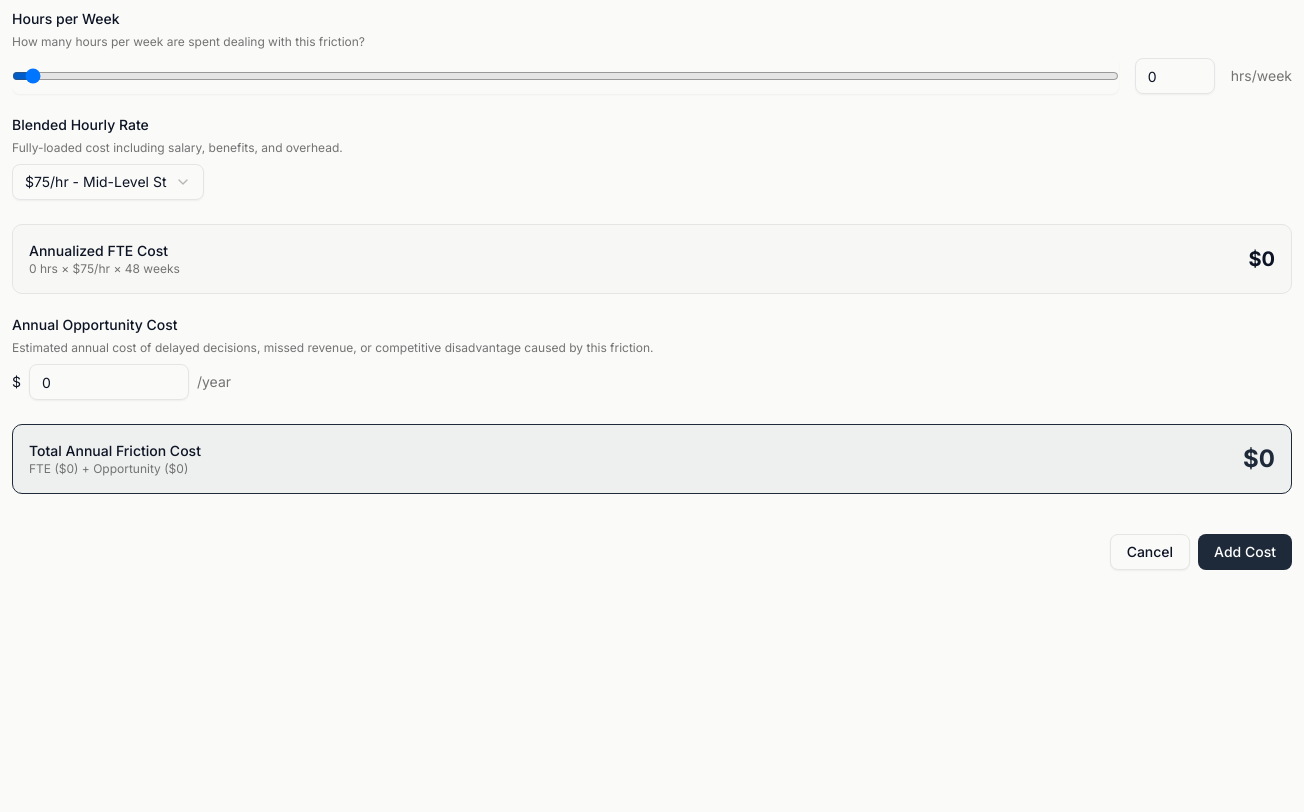
CostForm › calculates FTE cost live
The image size is (1304, 812).
# Get the numeric input (not the range slider)
Replace the text in the 1st number field with "10". click: point(1175, 76)
box: [1135,58,1215,94]
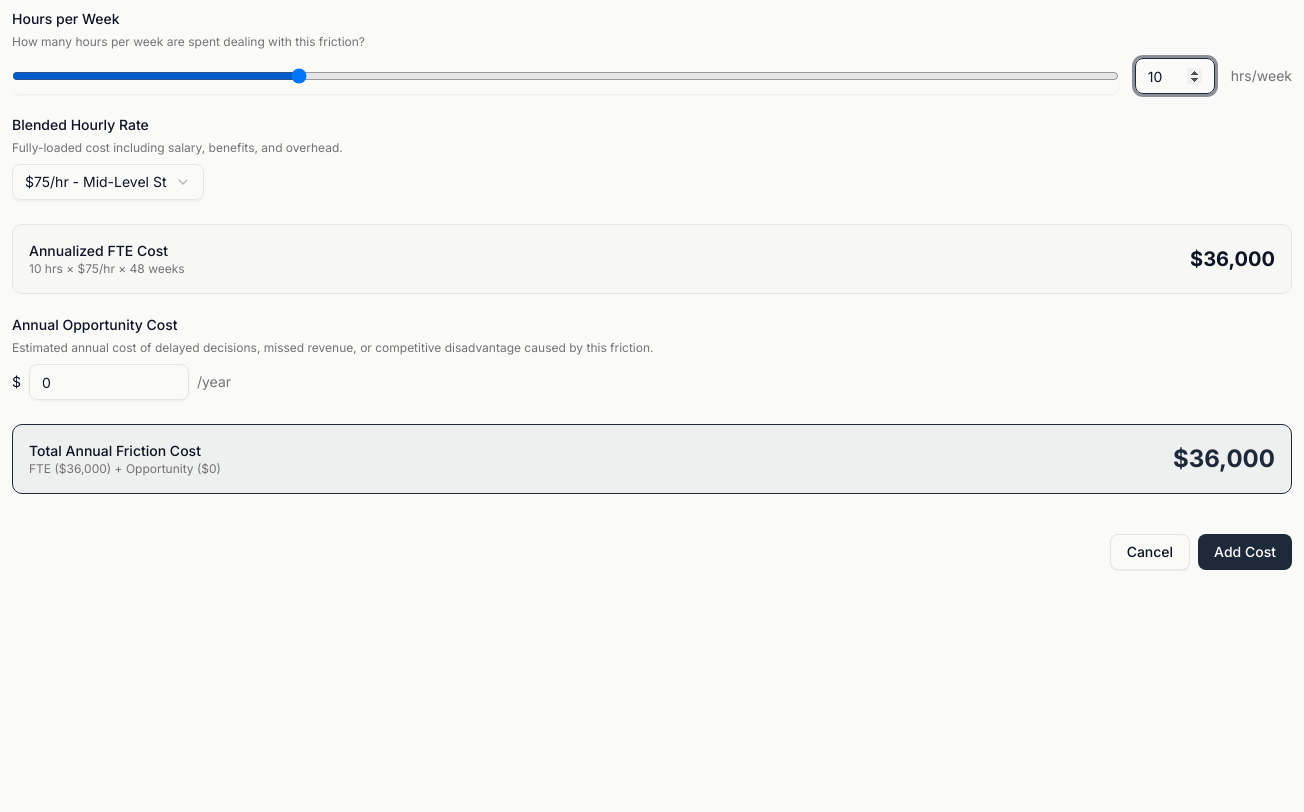
Expected: the text "$36,000" in the row of "weeks" is shown, [1190,247,1275,271]
